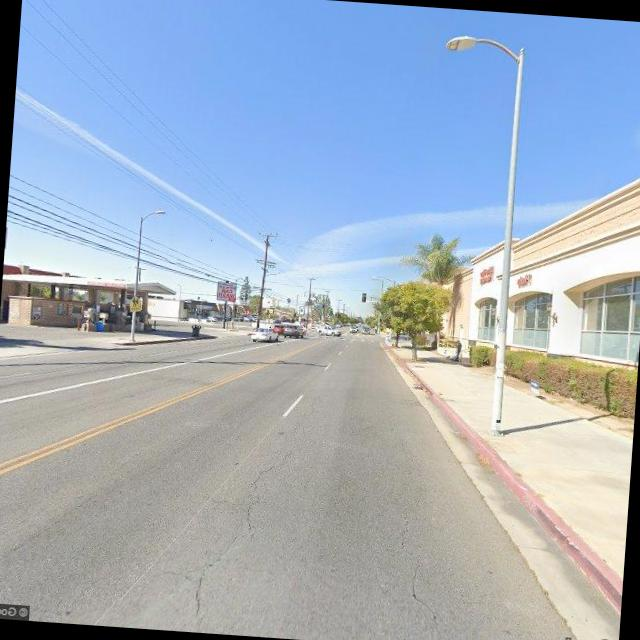pothole: (166, 408, 294, 616), (392, 502, 460, 639)
